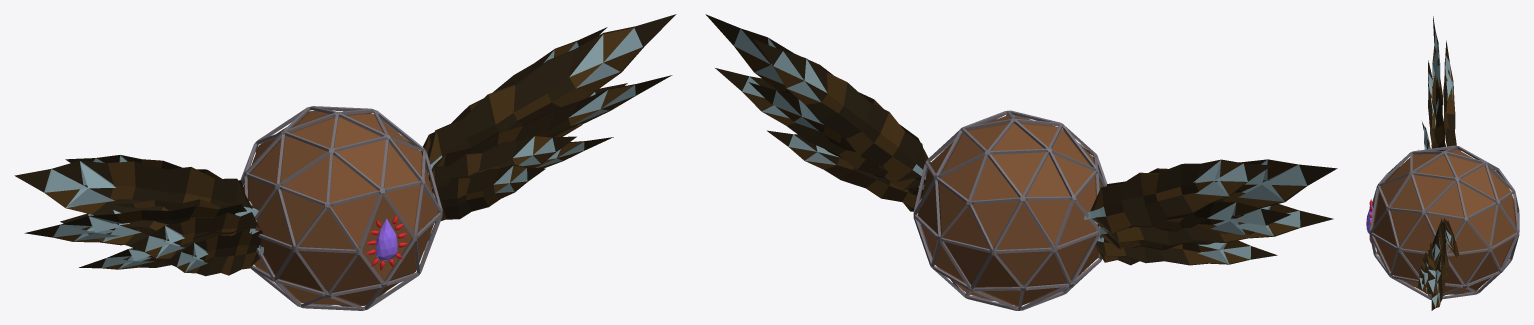
File: AerodynamicEssence.fbx
The picture shows the model from 3 angles, left to right: view 1: azimuth 30°, elevation 25°; view 2: azimuth 150°, elevation 25°; view 3: azimuth 270°, elevation 25°; orthographic projection. The views are drawn at different scales.
Parts seen in each view (by area): view 1: Icosphere, feathers, feathers.001, Icosphere.001, Icosphere.002; view 2: Icosphere, feathers.001, feathers, Icosphere.001; view 3: Icosphere, Icosphere.001, feathers.001, feathers.
Part boxes in pixels (x1,y1,x2,y2): Icosphere: (243,111,438,305); feathers: (420,14,676,223); feathers.001: (14,155,263,276); Icosphere.001: (240,106,442,310); Icosphere.002: (376,218,397,260); Icosphere: (918,115,1101,306); feathers.001: (1084,159,1337,265); feathers: (705,14,930,211); Icosphere.001: (913,110,1107,310); Icosphere: (1373,149,1516,294); Icosphere.001: (1369,145,1519,299); feathers.001: (1418,16,1456,151); feathers: (1418,218,1459,310).
Size of the model in its own units: 111 by 34.27 by 29.79.
